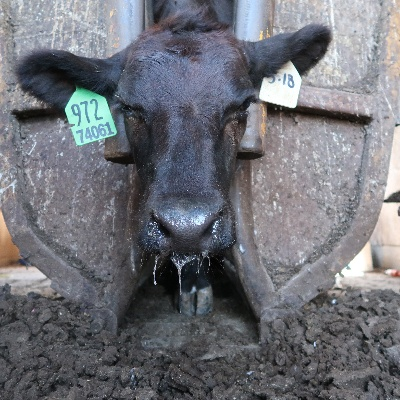fidget_spinner: (140, 195, 233, 266)
